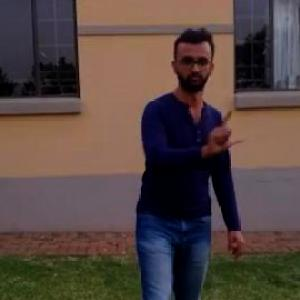land_hand: (198, 101, 251, 157)
